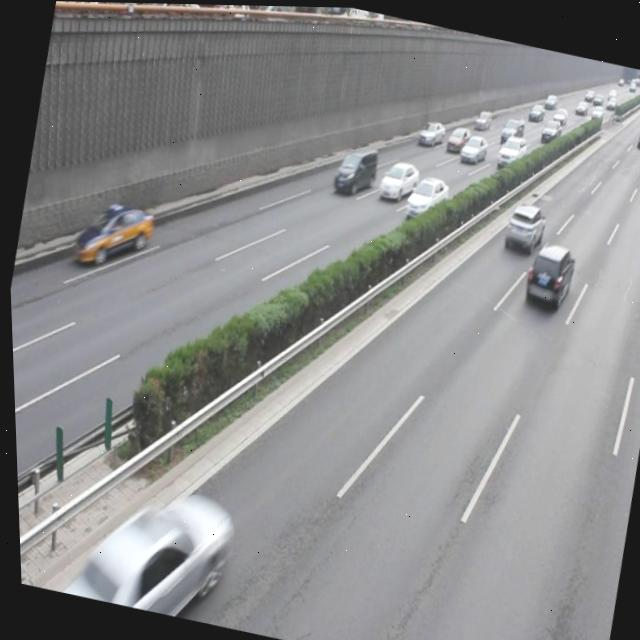car: (60, 470, 235, 625), (69, 195, 156, 274), (517, 236, 575, 308), (497, 198, 546, 255), (401, 168, 450, 218), (374, 155, 420, 203)
truck: (327, 137, 380, 200)
